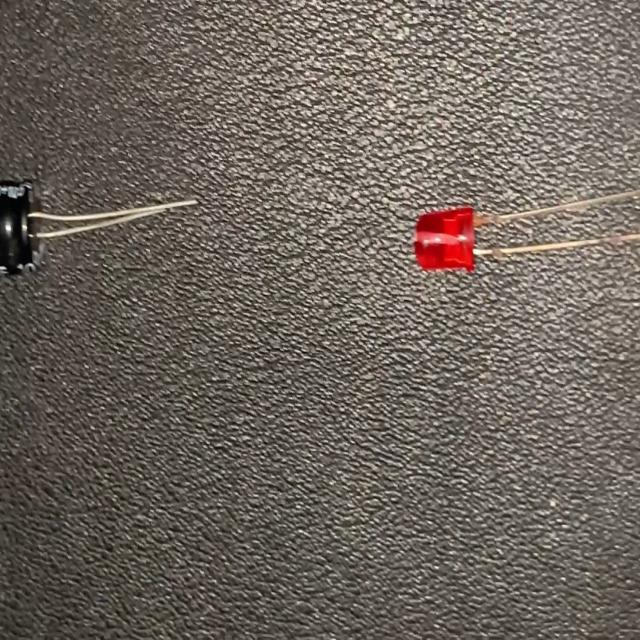LED: (412, 185, 640, 273)
capacitor: (0, 168, 199, 276)
